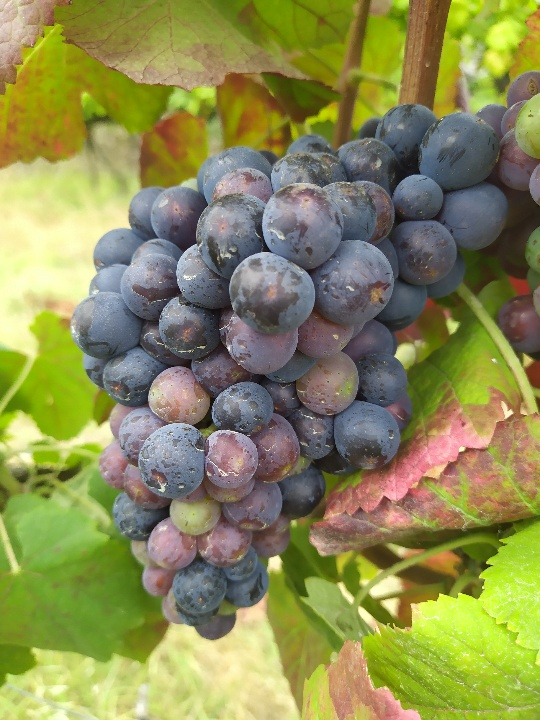grape: (69, 95, 510, 644)
